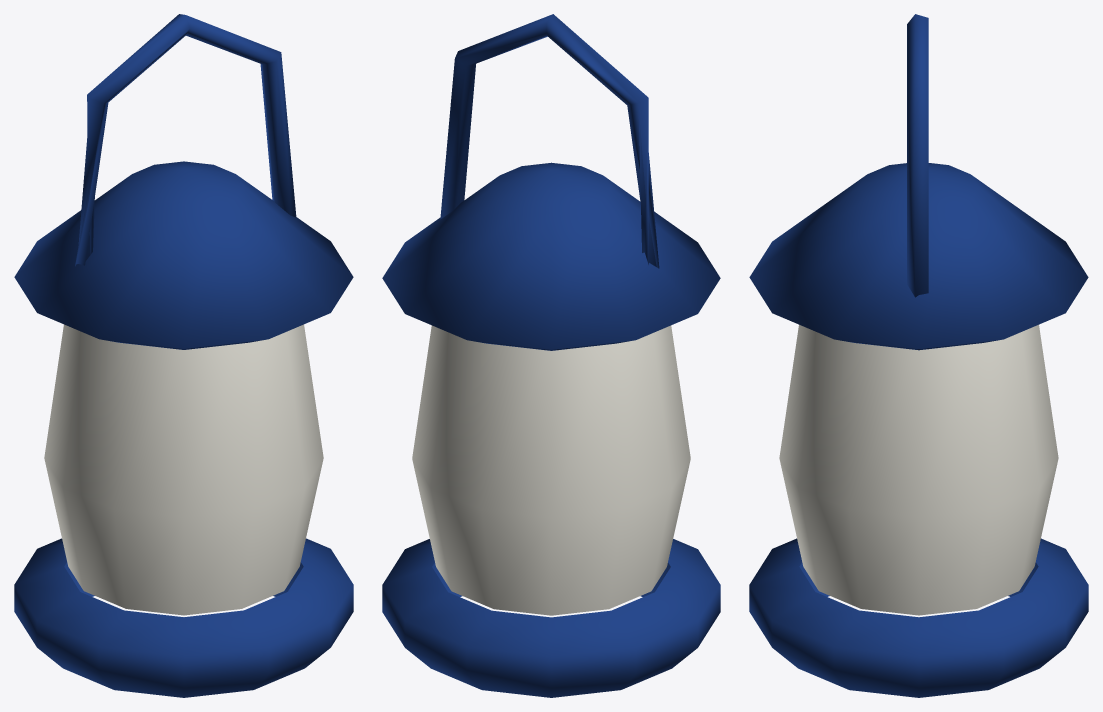
File: lantern.glb
3 views of the same model, side by side, from view 1: azimuth 30°, elevation 25°; view 2: azimuth 150°, elevation 25°; view 3: azimuth 270°, elevation 25° (orthographic).
Parts seen in each view (by area): view 1: lantern; view 2: lantern; view 3: lantern.
Boxes of the visible parts, x1=… form: lantern: x1=14, y1=14, x2=353, y2=697; lantern: x1=382, y1=14, x2=720, y2=697; lantern: x1=749, y1=14, x2=1088, y2=697.
Size of the model in its own units: 0.17 by 0.3457 by 0.17.
